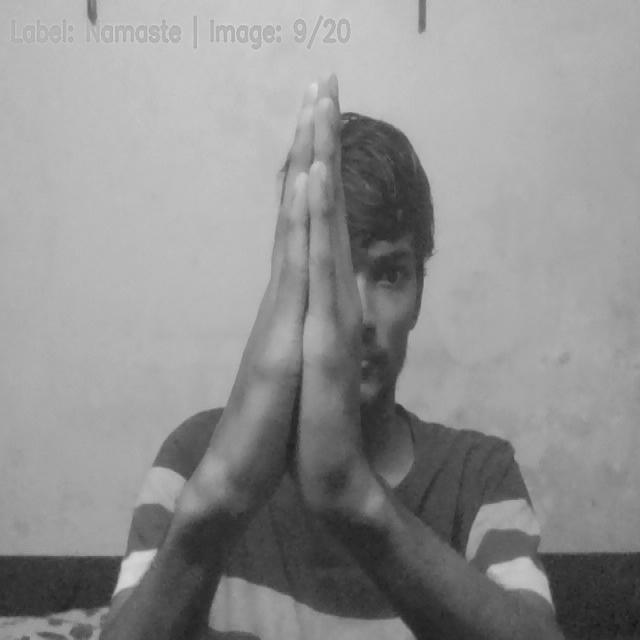Namaste: (210, 68, 373, 518)
